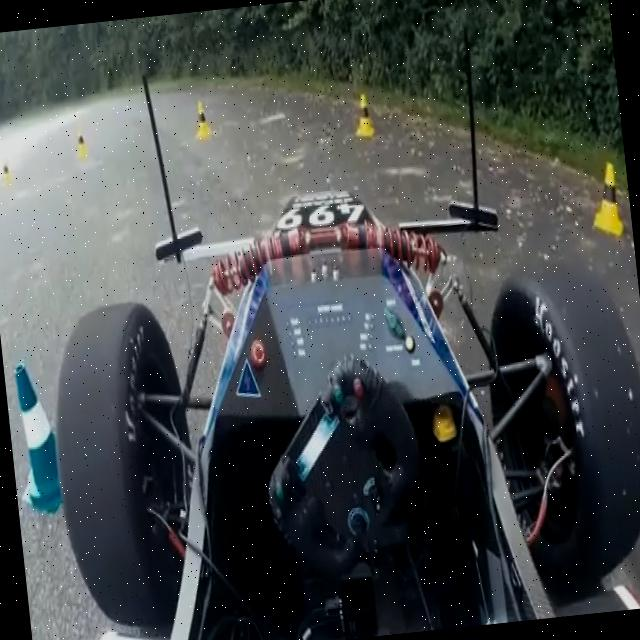blue_cone: (5, 344, 81, 521)
yellow_cone: (586, 162, 626, 239), (348, 88, 372, 136), (188, 100, 211, 143), (0, 159, 16, 196), (75, 127, 91, 163)
